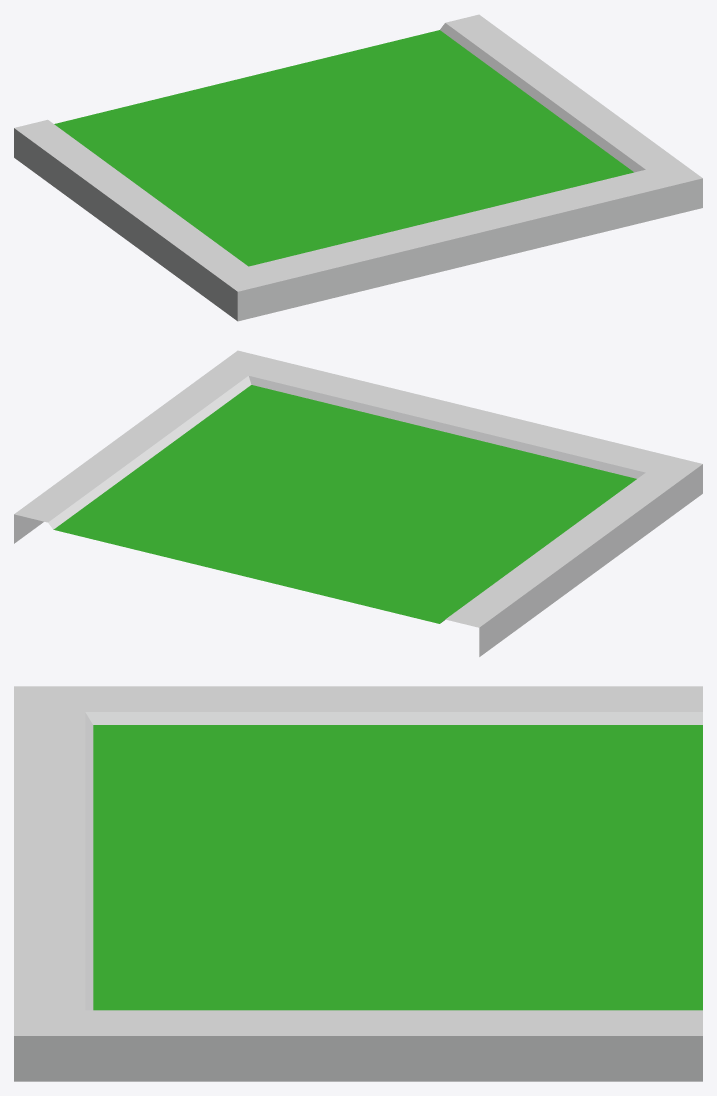
The model's file is GrassBed_1_B_1_.glb.
The picture shows the model from 3 angles, top to bottom: view 1: azimuth 30°, elevation 25°; view 2: azimuth 150°, elevation 25°; view 3: azimuth 270°, elevation 25°; orthographic projection. The views are drawn at different scales.
Parts seen in each view (by area): view 1: GrassBed_1_B_1; view 2: GrassBed_1_B_1; view 3: GrassBed_1_B_1.
Part boxes in pixels (x1,y1,x2,y2): GrassBed_1_B_1: (14,14,702,321); GrassBed_1_B_1: (14,350,702,656); GrassBed_1_B_1: (14,686,702,1081).
Bounding box in the file's own units: 1.2 × 0.0732 × 1.
1 material, 1 textured.
